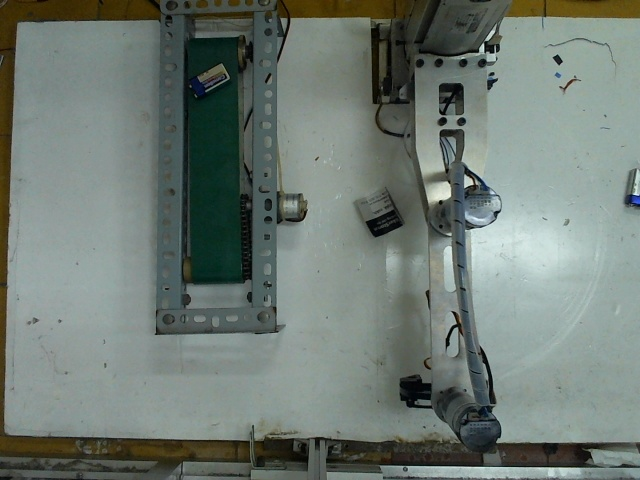battery: (188, 57, 232, 102)
